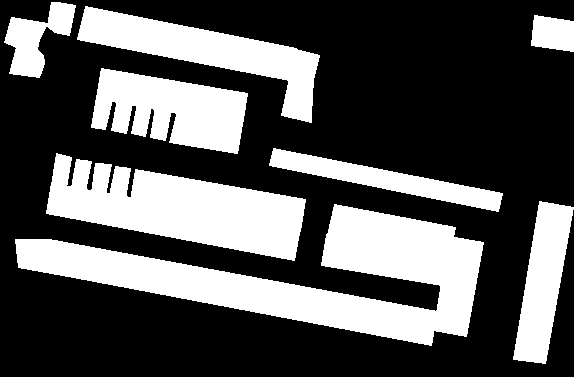parkingspot: (15, 239, 437, 345), (46, 183, 300, 260), (77, 6, 296, 80), (269, 148, 502, 211), (130, 169, 305, 231), (513, 201, 573, 363), (96, 68, 247, 125), (327, 204, 455, 257), (321, 234, 447, 285), (433, 236, 483, 336), (169, 111, 242, 153), (281, 49, 319, 122), (4, 17, 47, 77), (531, 15, 574, 51), (47, 2, 75, 35), (111, 99, 132, 133), (109, 166, 130, 199), (150, 107, 171, 140), (51, 153, 71, 187), (91, 97, 112, 129), (131, 103, 151, 136), (91, 163, 111, 195), (71, 159, 91, 191)
